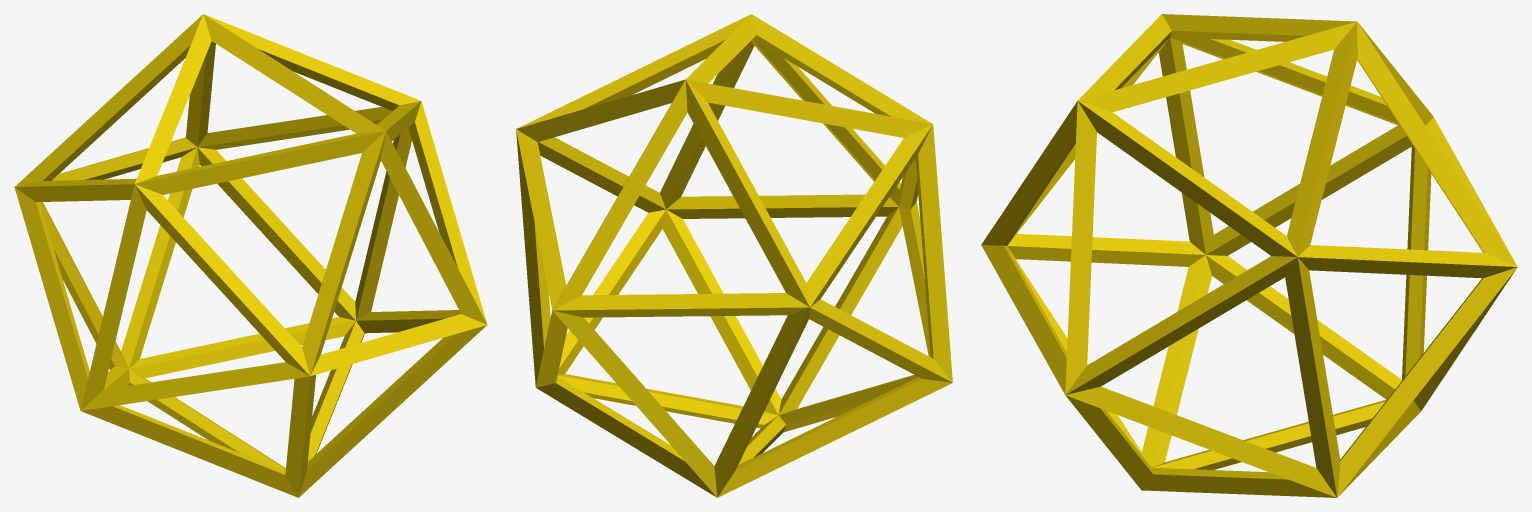
The model's file is animated.gltf.
3 views of the same model, side by side, from view 1: azimuth 30°, elevation 25°; view 2: azimuth 150°, elevation 25°; view 3: azimuth 270°, elevation 25° (orthographic). The views are drawn at different scales.
Visible parts, largest first — view 1: animated; view 2: animated; view 3: animated.
Boxes of the visible parts, <box> form: animated: <box>14,14,487,497</box>; animated: <box>516,14,952,497</box>; animated: <box>981,14,1517,497</box>.
Bounding box in the file's own units: 1.88 × 1.94 × 2.01.
